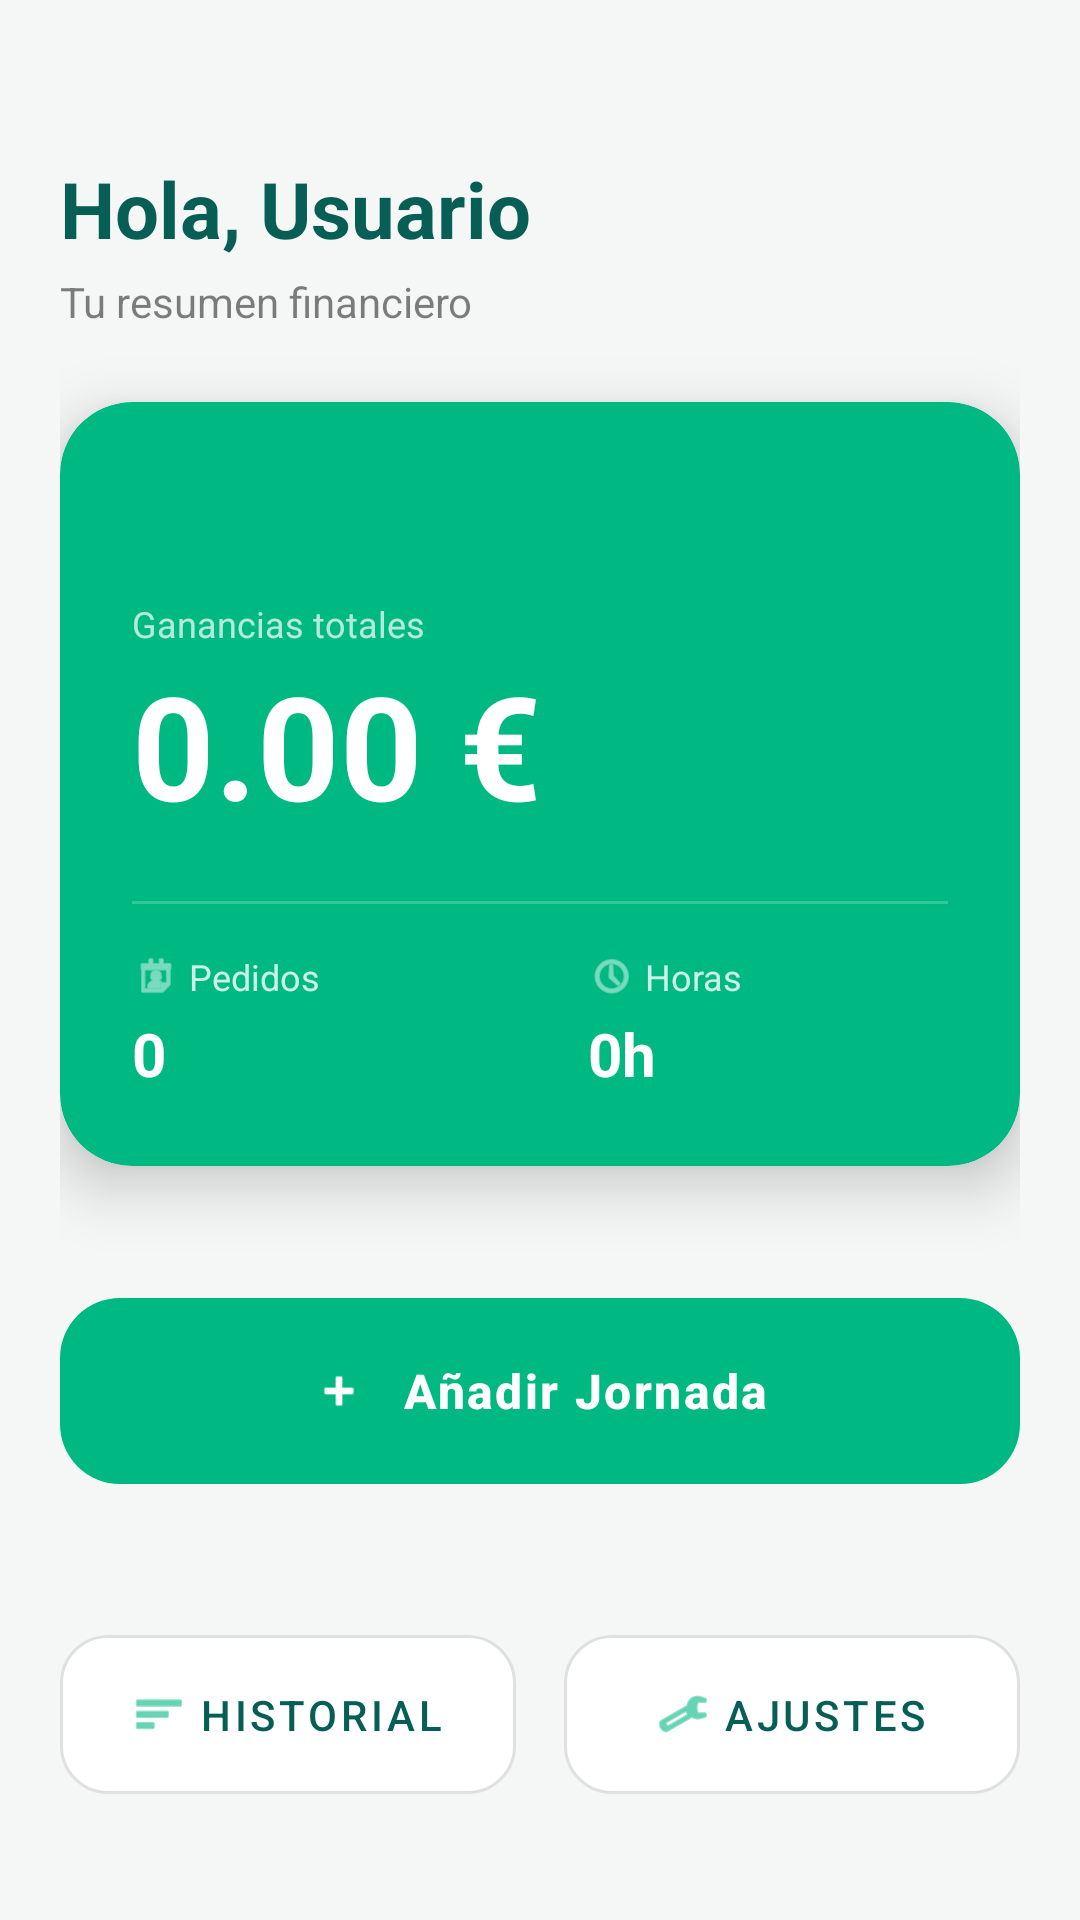

Where to tap for icons on this 1080*1920 app screen, as (x=x, y=y):
calendar: (x=156, y=975)
